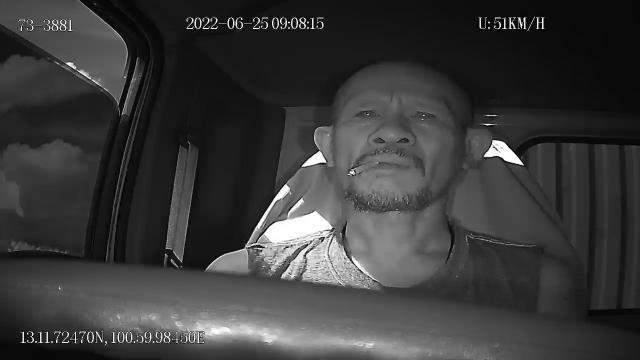SafeDriving: (348, 100, 387, 128), (402, 100, 442, 127)
Smoking: (348, 160, 378, 178)
